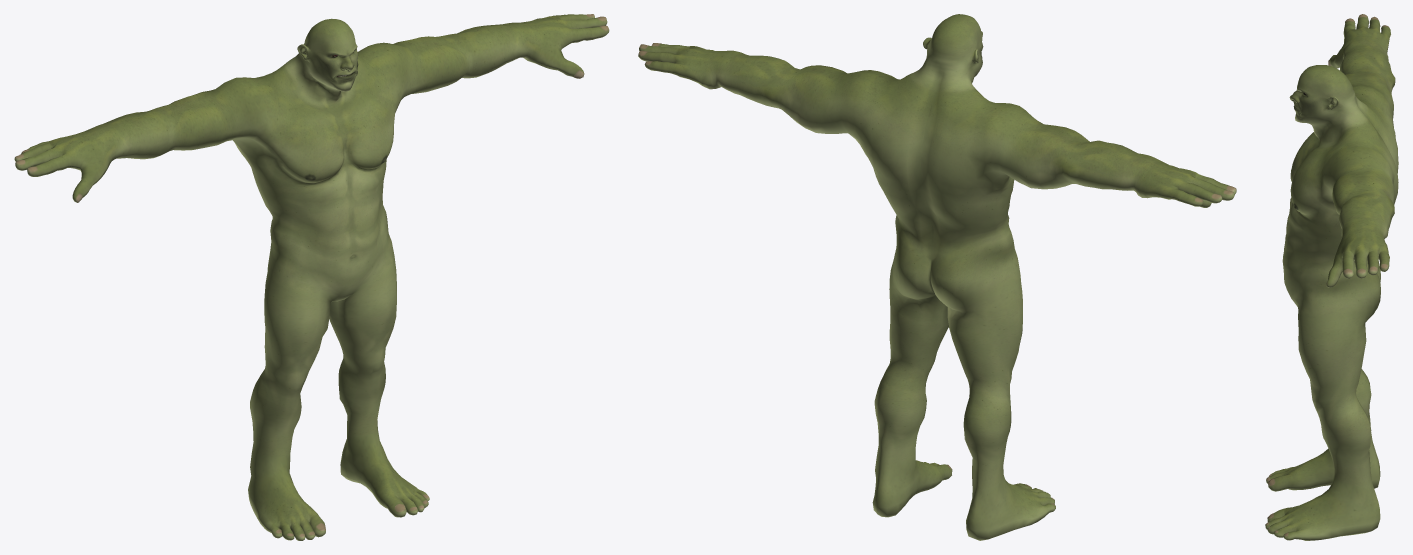
Rendered from brute_orc.glb.
3 views of the same model, side by side, from view 1: azimuth 30°, elevation 25°; view 2: azimuth 150°, elevation 25°; view 3: azimuth 270°, elevation 25° (orthographic). The views are drawn at different scales.
Parts seen in each view (by area): view 1: Object_2; view 2: Object_2; view 3: Object_2.
Part boxes in pixels (left/top/right/bottom): Object_2: left=14, top=14, right=609, bottom=540; Object_2: left=638, top=14, right=1236, bottom=540; Object_2: left=1265, top=14, right=1398, bottom=540.
Bounding box in the file's own units: 255 × 201 × 54.86.
1 material, 1 textured.
